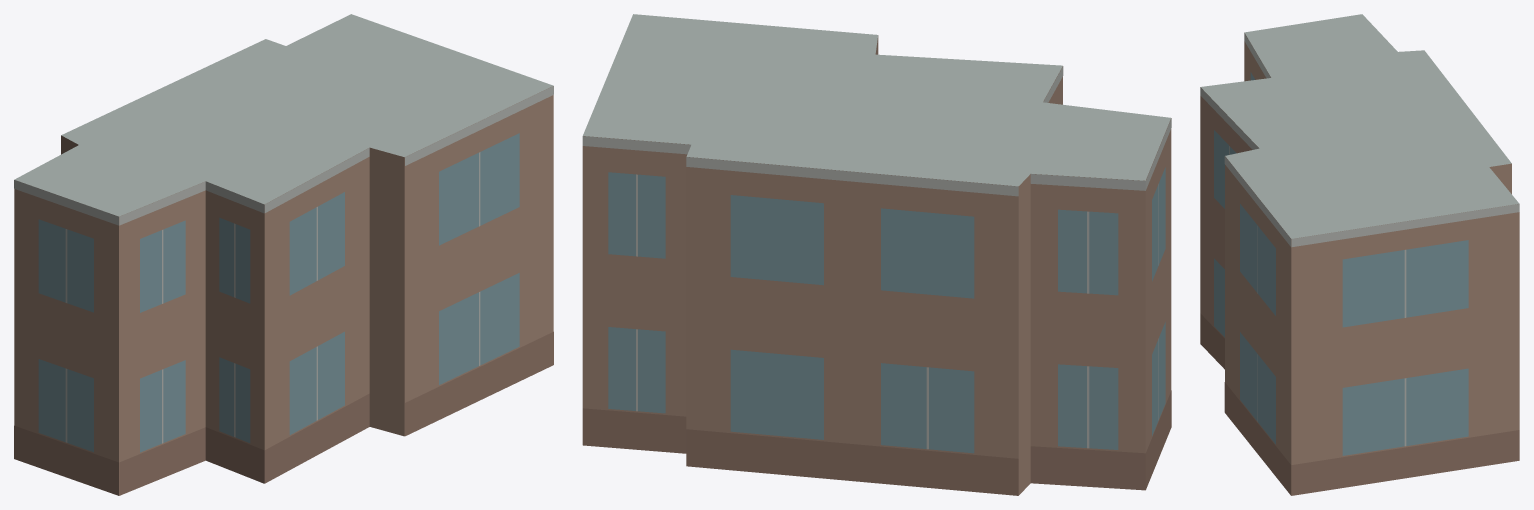
The model's file is survey-upis-32517102.glb.
3 views of the same model, side by side, from view 1: azimuth 30°, elevation 25°; view 2: azimuth 150°, elevation 25°; view 3: azimuth 270°, elevation 25° (orthographic). The views are drawn at different scales.
Visible parts, largest first — view 1: survey-upis-32517102.tmp; view 2: survey-upis-32517102.tmp; view 3: survey-upis-32517102.tmp.
Boxes of the visible parts, x1,y1,x2,y2 form: survey-upis-32517102.tmp: [14, 14, 553, 495]; survey-upis-32517102.tmp: [582, 14, 1171, 495]; survey-upis-32517102.tmp: [1200, 14, 1519, 495].
Size of the model in its own units: 14.09 by 7.5 by 8.45.
